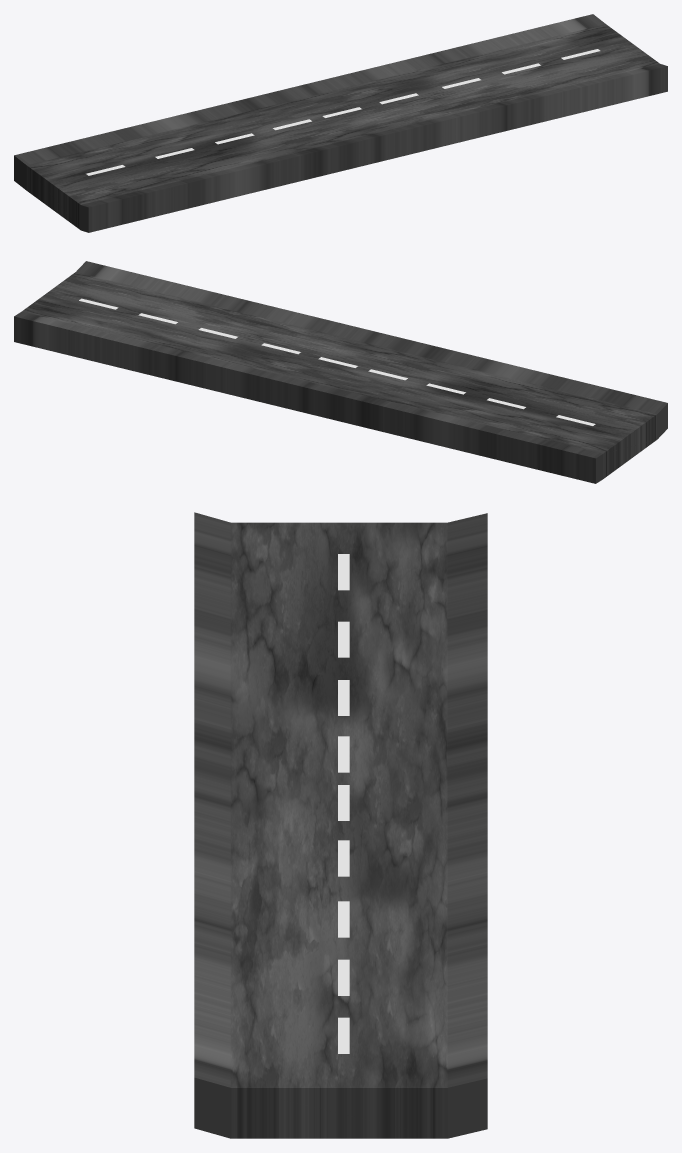
File: road.glb
3 views of the same model, one above another, from view 1: azimuth 30°, elevation 25°; view 2: azimuth 150°, elevation 25°; view 3: azimuth 270°, elevation 25° (orthographic). The views are drawn at different scales.
Parts seen in each view (by area): view 1: Plane; view 2: Plane; view 3: Plane.
Part boxes in pixels (<box>): Plane: <box>14,14,667,232</box>; Plane: <box>14,261,667,483</box>; Plane: <box>194,512,487,1138</box>.
Bounding box in the file's own units: 31.47 × 1.55 × 6.87.
Materials: 2 (1 with a texture image).
